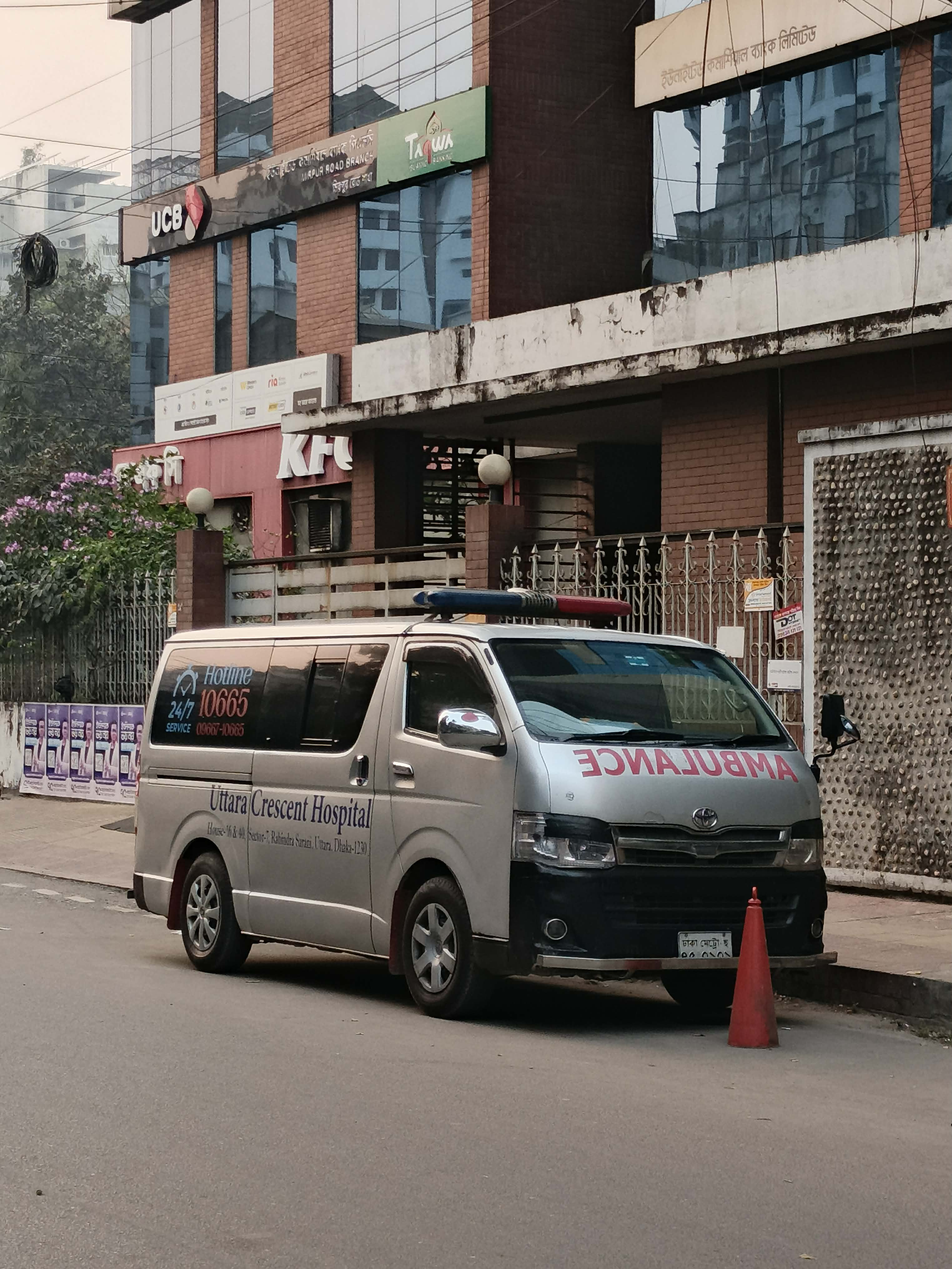Ambulance: (106, 558, 905, 1070)
